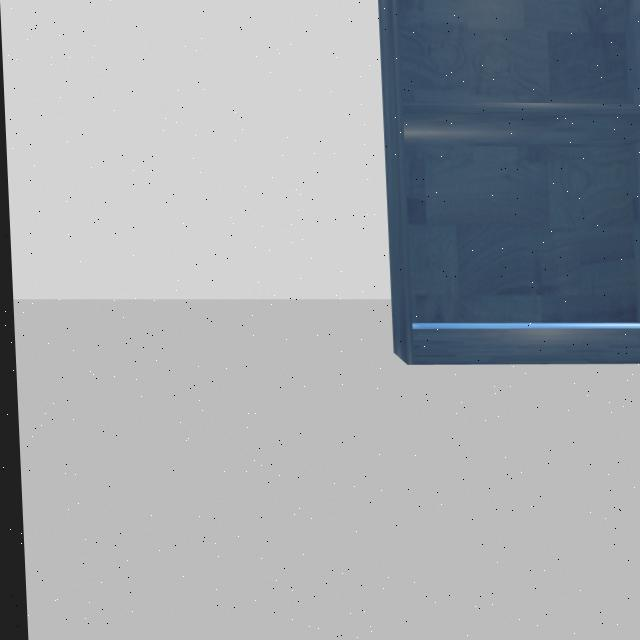shelf: (359, 0, 640, 396)
